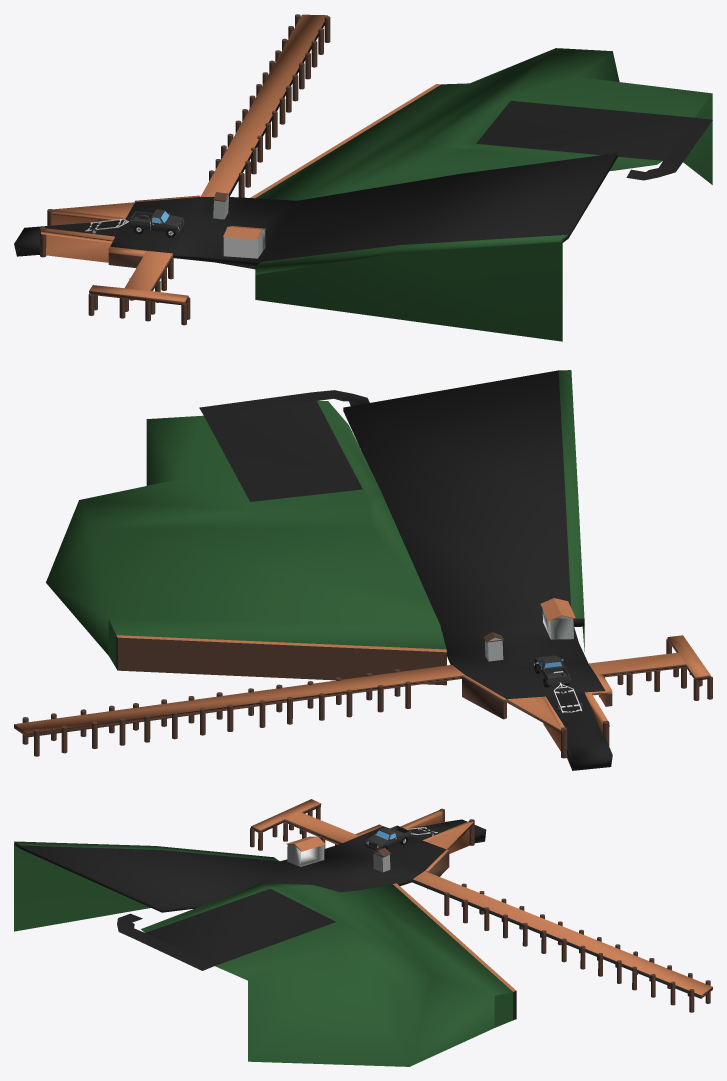
File: intboatramp.glb
The picture shows the model from 3 angles, top to bottom: view 1: azimuth 30°, elevation 25°; view 2: azimuth 150°, elevation 25°; view 3: azimuth 270°, elevation 25°; orthographic projection. The views are drawn at different scales.
Visible parts, largest first — view 1: Wheel_Front_Left; view 2: Wheel_Front_Left; view 3: Wheel_Front_Left.
Boxes of the visible parts, bbox=[...] form: Wheel_Front_Left: bbox=[14, 14, 712, 341]; Wheel_Front_Left: bbox=[14, 370, 712, 770]; Wheel_Front_Left: bbox=[14, 799, 712, 1066].
Size of the model in its own units: 0.3492 by 0.0736 by 0.4028.
